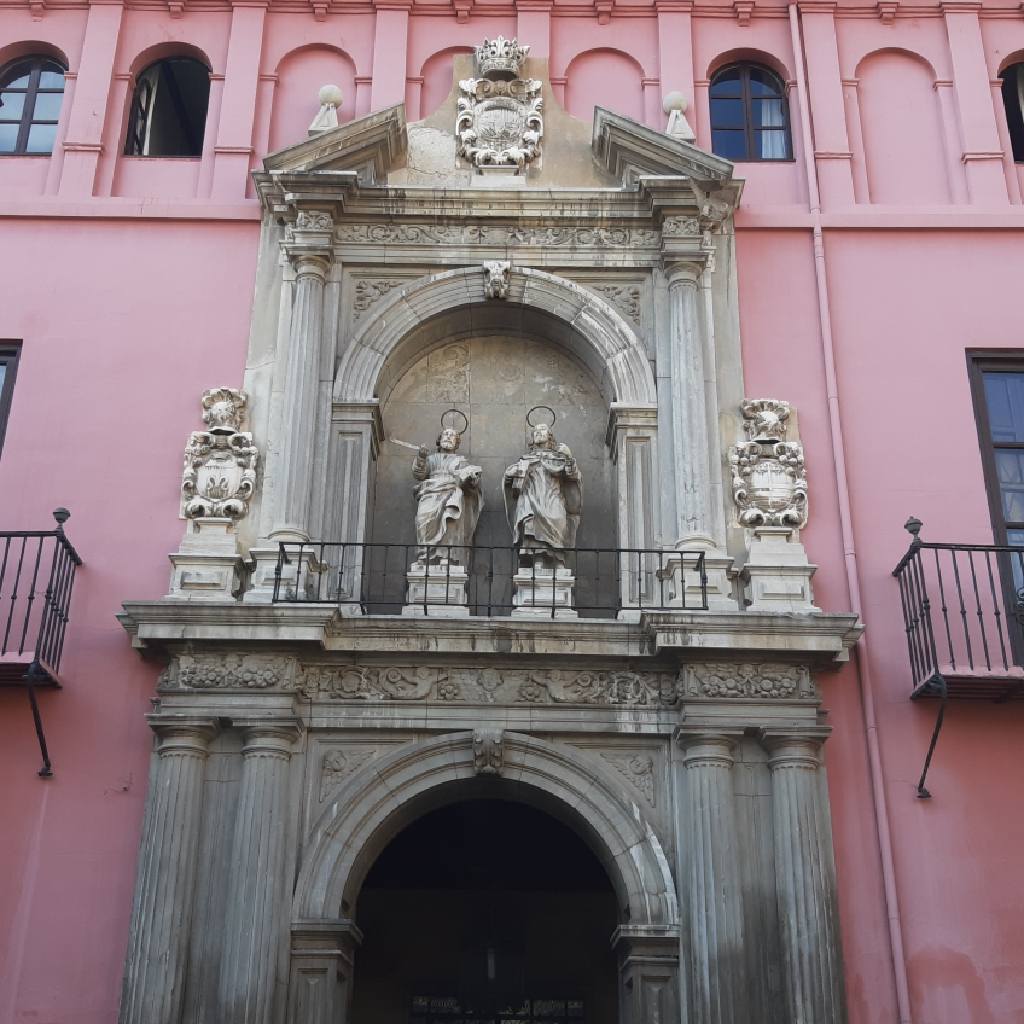arco-medio-punto: (322, 762, 651, 974), (359, 284, 637, 460)
fronton-partido: (251, 96, 713, 207)
